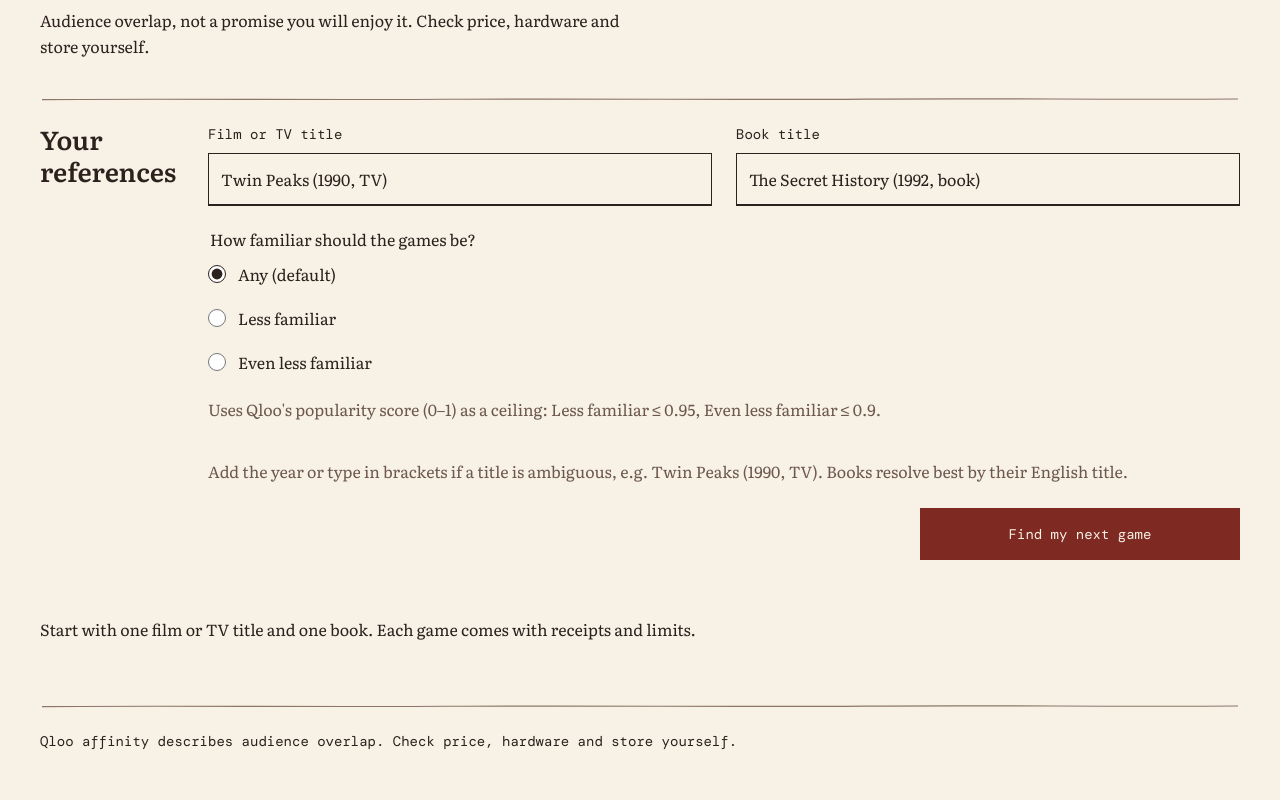
Test: shows the Demo Qloo budget reached; try later error
(page scrolled)
Click the button "Find my next game".
click(1080, 534)  # box 920,508 -> 1240,560
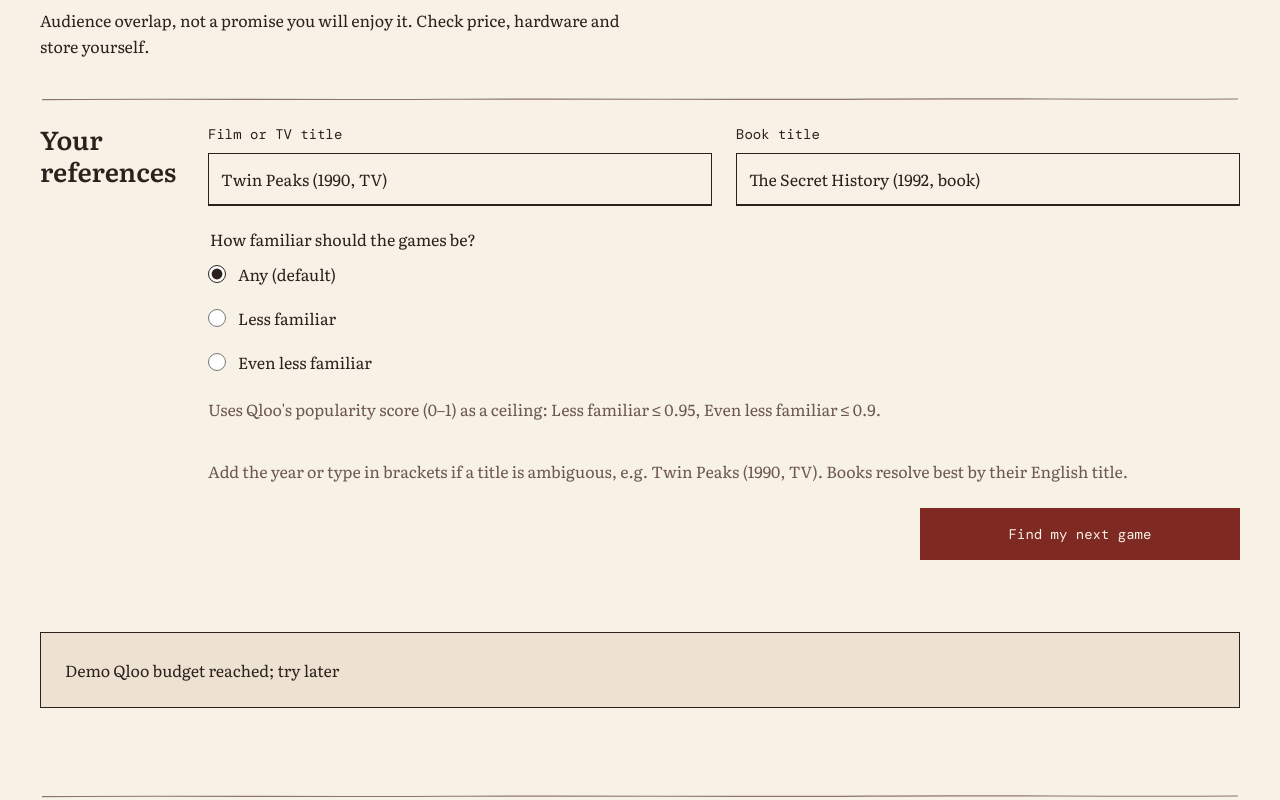
expect the message reads "Demo Qloo budget reached; try later": met, box 65,658 -> 339,682
